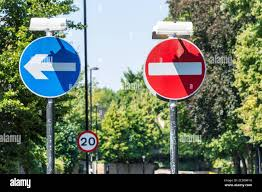No entry: (145, 39, 206, 101)
